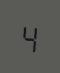four: (19, 19, 38, 53)
